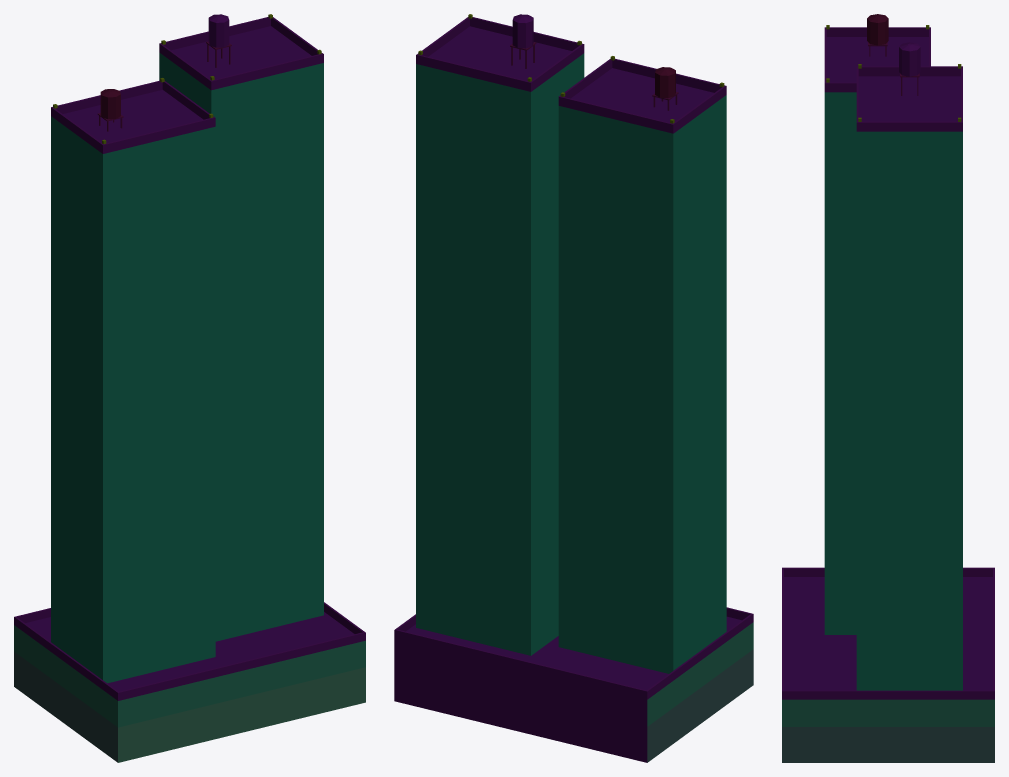
File: estate_a.lod1.glb
3 views of the same model, side by side, from view 1: azimuth 30°, elevation 25°; view 2: azimuth 150°, elevation 25°; view 3: azimuth 270°, elevation 25° (orthographic). The views are drawn at different scales.
Parts seen in each view (by area): view 1: estate_a.lod1; view 2: estate_a.lod1; view 3: estate_a.lod1.
Part boxes in pixels (x1,y1,x2,y2): estate_a.lod1: [14, 14, 365, 762]; estate_a.lod1: [394, 14, 753, 762]; estate_a.lod1: [782, 14, 994, 762].
Size of the model in its own units: 35.2 by 89.73 by 25.6.
